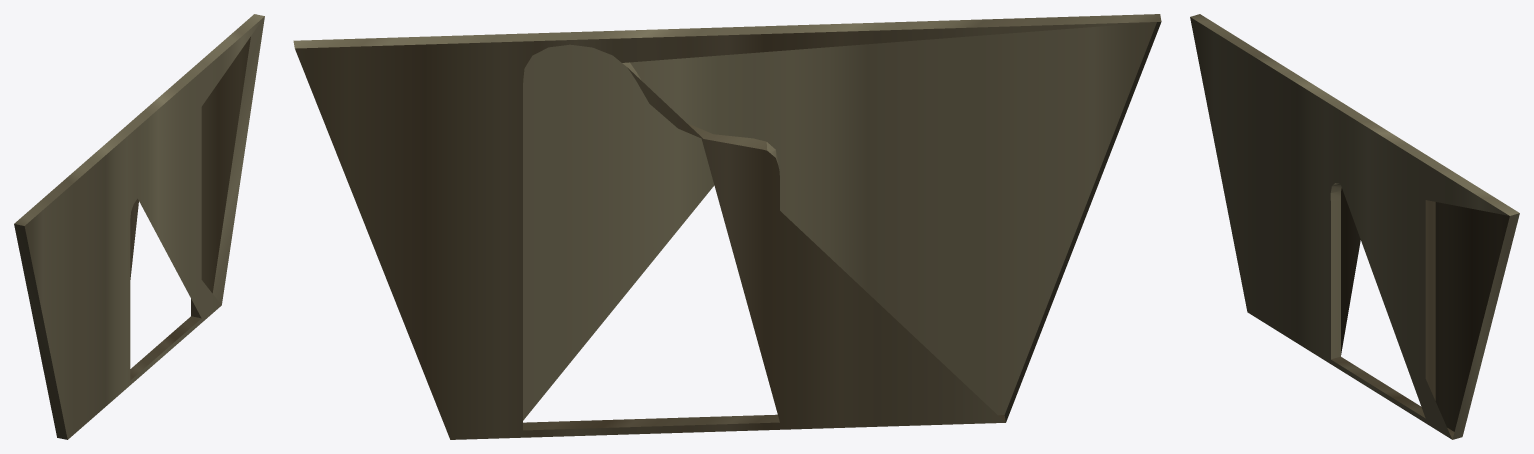
Rendered from wall3.obj.
3 views of the same model, side by side, from view 1: azimuth 30°, elevation 25°; view 2: azimuth 150°, elevation 25°; view 3: azimuth 270°, elevation 25° (orthographic). The views are drawn at different scales.
Parts seen in each view (by area): view 1: polySurface18 pasted__pCube37; view 2: polySurface18 pasted__pCube37; view 3: polySurface18 pasted__pCube37.
Part boxes in pixels (x1=…): polySurface18 pasted__pCube37: x1=14, y1=14, x2=264, y2=439; polySurface18 pasted__pCube37: x1=293, y1=14, x2=1161, y2=439; polySurface18 pasted__pCube37: x1=1190, y1=14, x2=1519, y2=439.
Size of the model in its own units: 25.75 by 15.43 by 17.77.
1 material, 1 textured.
